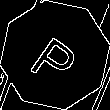P_NE: (26, 24, 84, 86)
